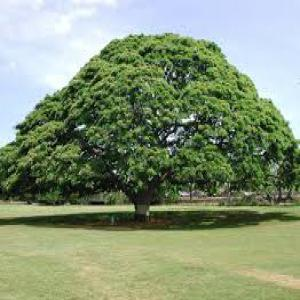Tree: (0, 30, 299, 225)
